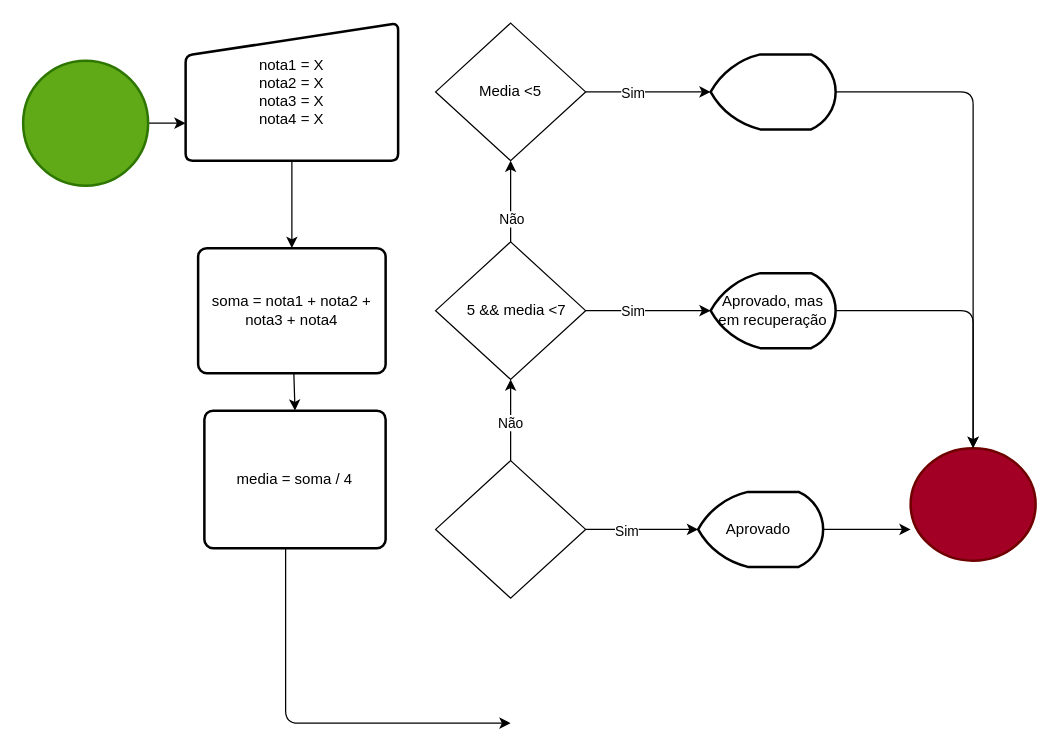
This 1058x755 diagram has some shape labels left out. Here are the shapes that lost their labels. From the top down, the centre of each, then its label:
At [772,91]: "Reprovado".
At [972,503]: "Fim".
At [510,528]: "Media >=7".
